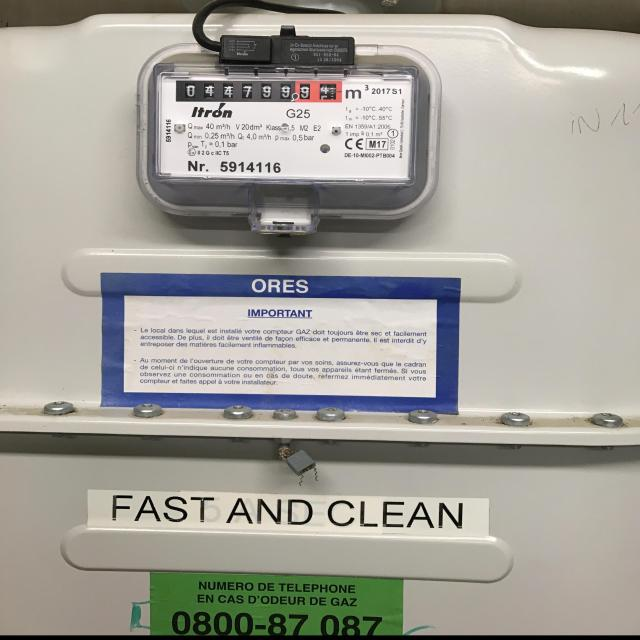gaz_meter: (155, 65, 414, 187)
indication: (177, 76, 346, 102)
